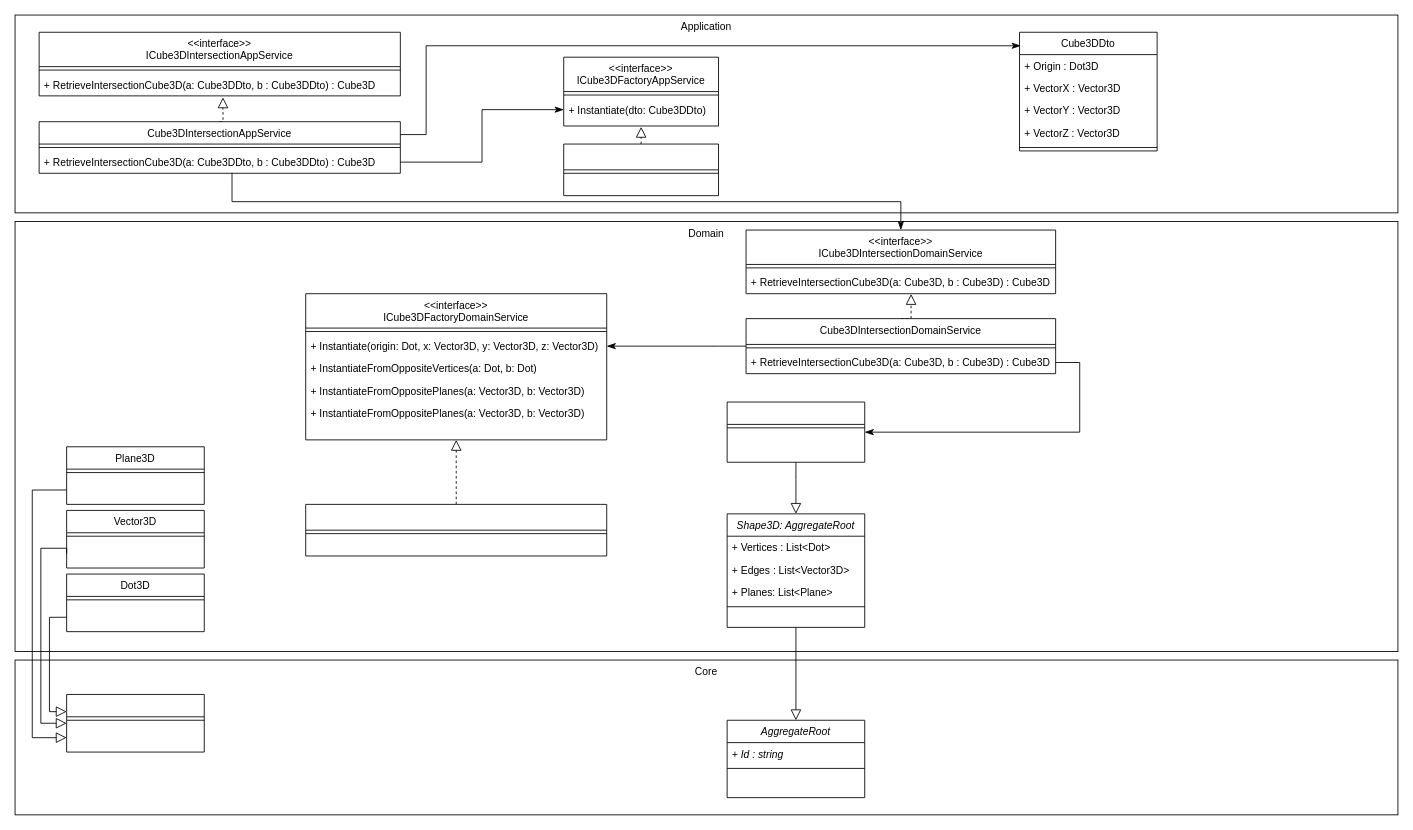
Some shapes in this 1413 by 830 pixel diagram are drawn without their labels. The shapes that lost their labels are listed below. From the top down, each one's centre as x and y in pixels, then its label:
(x=641, y=169): Cube3DFactoryAppService
(x=795, y=431): Cube3D
(x=456, y=530): Cube3DFactoryDomainService
(x=135, y=723): ValueObject
